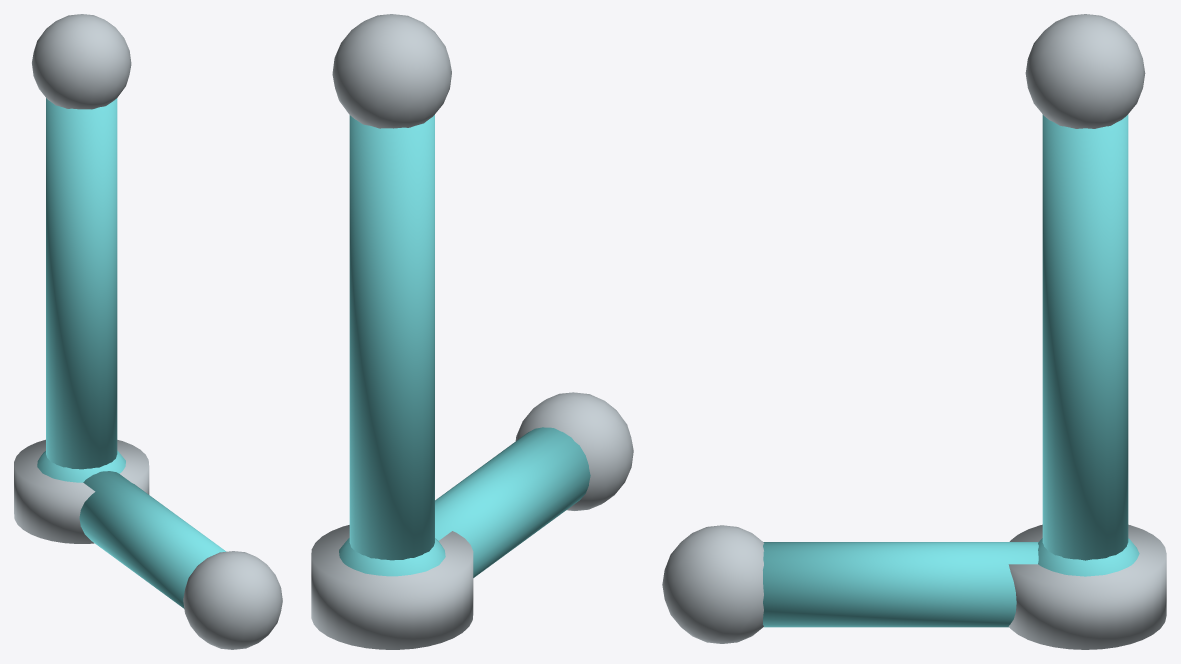
File: pipe_riser_ultra.glb
3 views of the same model, side by side, from view 1: azimuth 30°, elevation 25°; view 2: azimuth 150°, elevation 25°; view 3: azimuth 270°, elevation 25° (orthographic). The views are drawn at different scales.
Visible parts, largest first — view 1: Conduit_cyan, Coupler_steel, JunctionCap_steel, Junction_cyan; view 2: Conduit_cyan, Coupler_steel, JunctionCap_steel, Junction_cyan; view 3: Conduit_cyan, Coupler_steel, JunctionCap_steel, Junction_cyan.
Part boxes in pixels (bbox=[...]): Conduit_cyan: bbox=[46, 98, 225, 608]; Coupler_steel: bbox=[32, 14, 282, 649]; JunctionCap_steel: bbox=[14, 439, 149, 543]; Junction_cyan: bbox=[37, 450, 125, 482]; Conduit_cyan: bbox=[349, 115, 590, 577]; Coupler_steel: bbox=[332, 14, 633, 510]; JunctionCap_steel: bbox=[311, 525, 473, 649]; Junction_cyan: bbox=[339, 538, 445, 576]; Conduit_cyan: bbox=[763, 114, 1128, 627]; Coupler_steel: bbox=[662, 14, 1145, 643]; JunctionCap_steel: bbox=[1008, 524, 1166, 649]; Junction_cyan: bbox=[1038, 538, 1139, 576].
Bounding box in the file's own units: 0.38 × 1.61 × 1.18.
